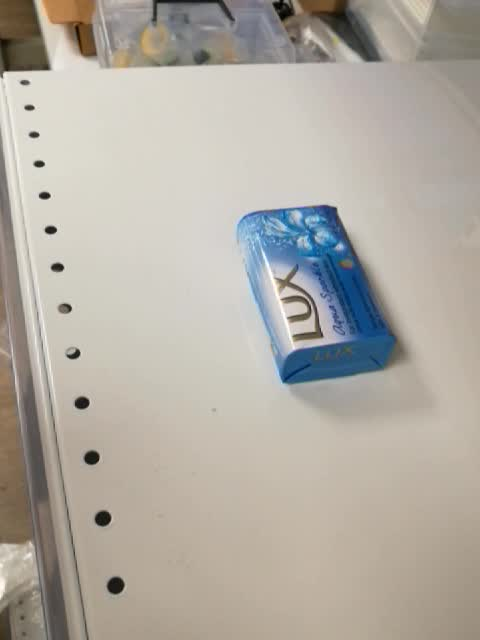soap: (235, 203, 402, 387)
